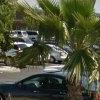Tree: (31, 3, 100, 83)
